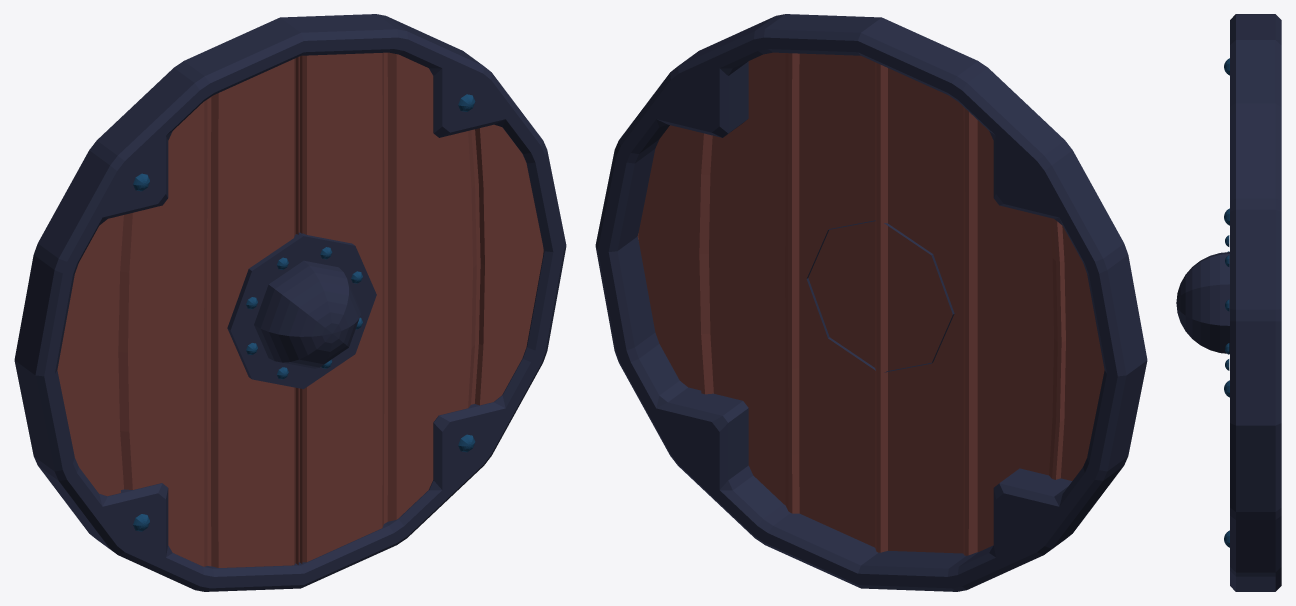
The model's file is Shield.fbx.
3 renders of one model, left to right at view 1: azimuth 30°, elevation 25°; view 2: azimuth 150°, elevation 25°; view 3: azimuth 270°, elevation 25°, orthographic. The views are drawn at different scales.
Visible parts, largest first — view 1: Sphere.001; view 2: Sphere.001; view 3: Sphere.001.
Boxes of the visible parts, left/top/right/bottom form: Sphere.001: left=14, top=14, right=566, bottom=591; Sphere.001: left=595, top=14, right=1147, bottom=591; Sphere.001: left=1176, top=14, right=1281, bottom=591.
Size of the model in its own units: 2.87 by 0.5202 by 2.87.
Materials: 1 (1 with a texture image).
